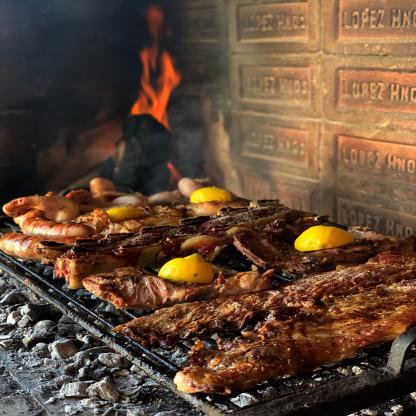Carne: (184, 276, 415, 395), (138, 244, 416, 342), (74, 269, 164, 304)
